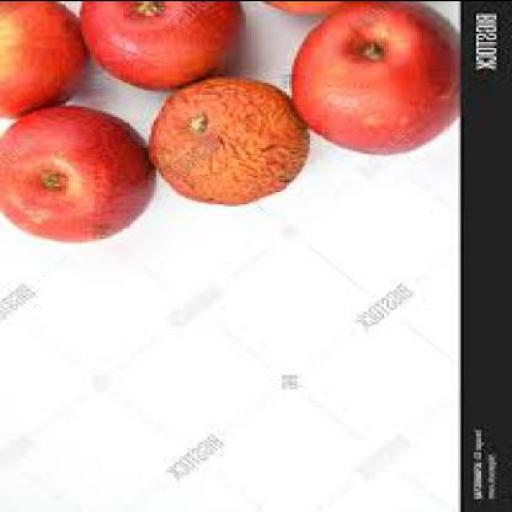biodegradable: (289, 1, 457, 153), (0, 102, 150, 240), (146, 76, 304, 201), (76, 2, 244, 88), (0, 1, 85, 116), (264, 1, 376, 11)
